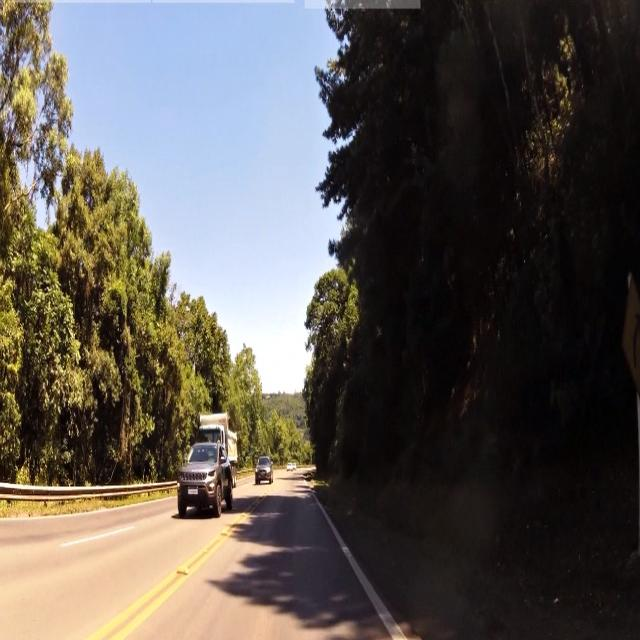A-2b: (622, 274, 640, 393)
